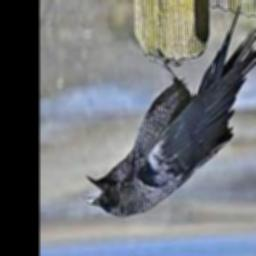Crow: (82, 5, 256, 219)
